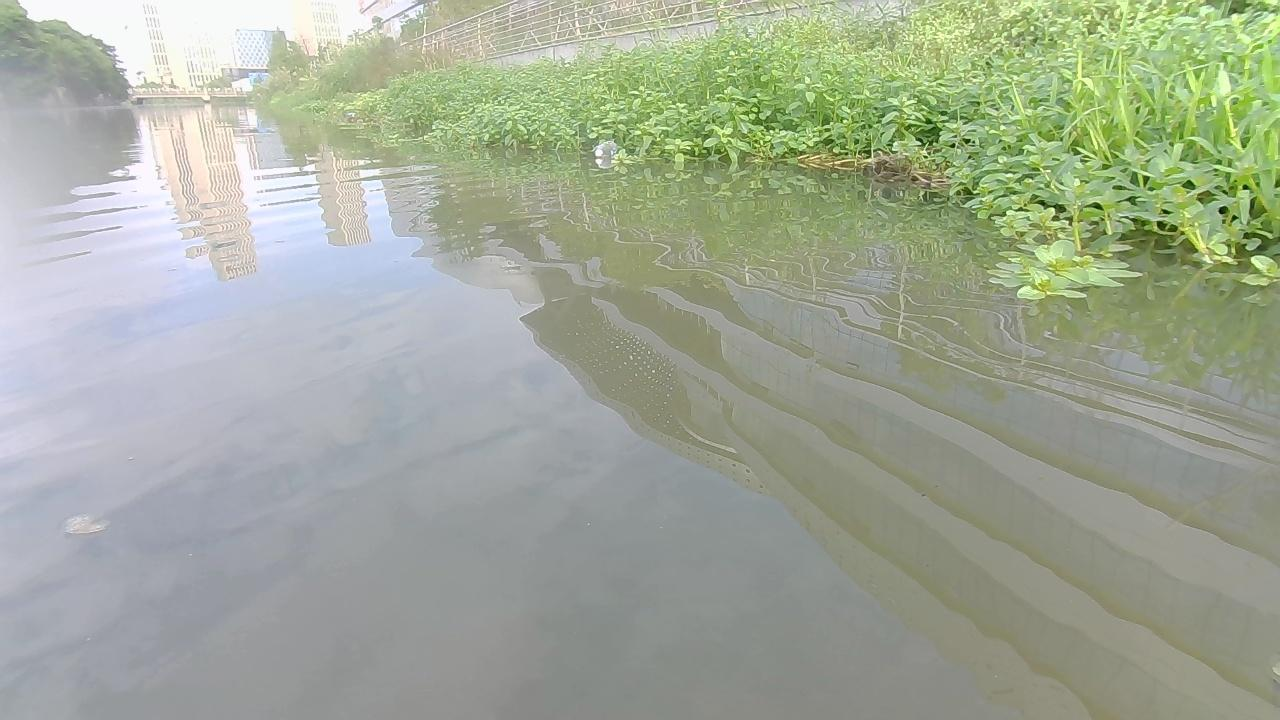bottle: (589, 138, 621, 162)
